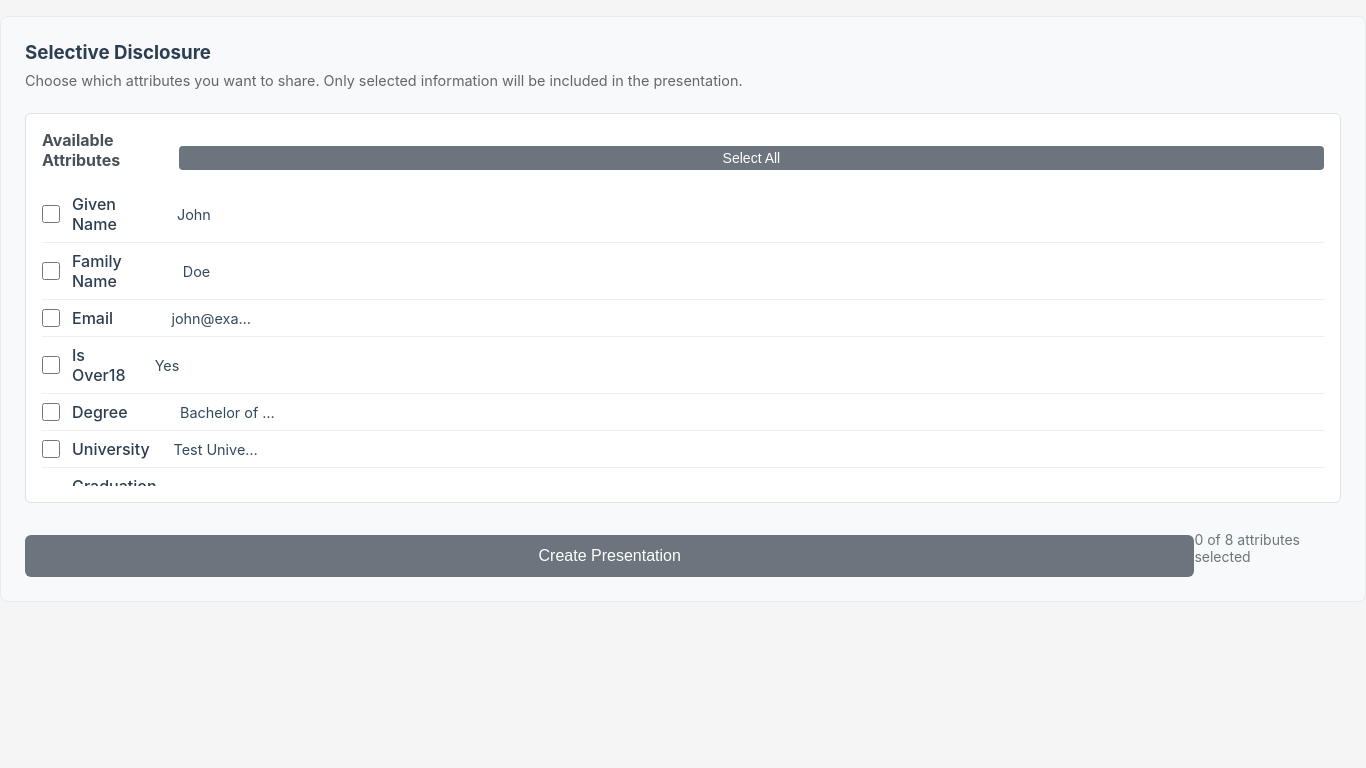
Test case: SelectiveDisclosure › should allow individual attribute selection
The width and height of the screenshot is (1366, 768).
Expected: the checkbox labelled "Given Name John" is not checked, 42,205 -> 60,223
Expected: the checkbox labelled "Email john@example.com" is not checked, 42,309 -> 60,327
// Select first attribute (Given Name)
Click the checkbox labelled "Family Name Doe": point(51, 271) 42,262 -> 60,280
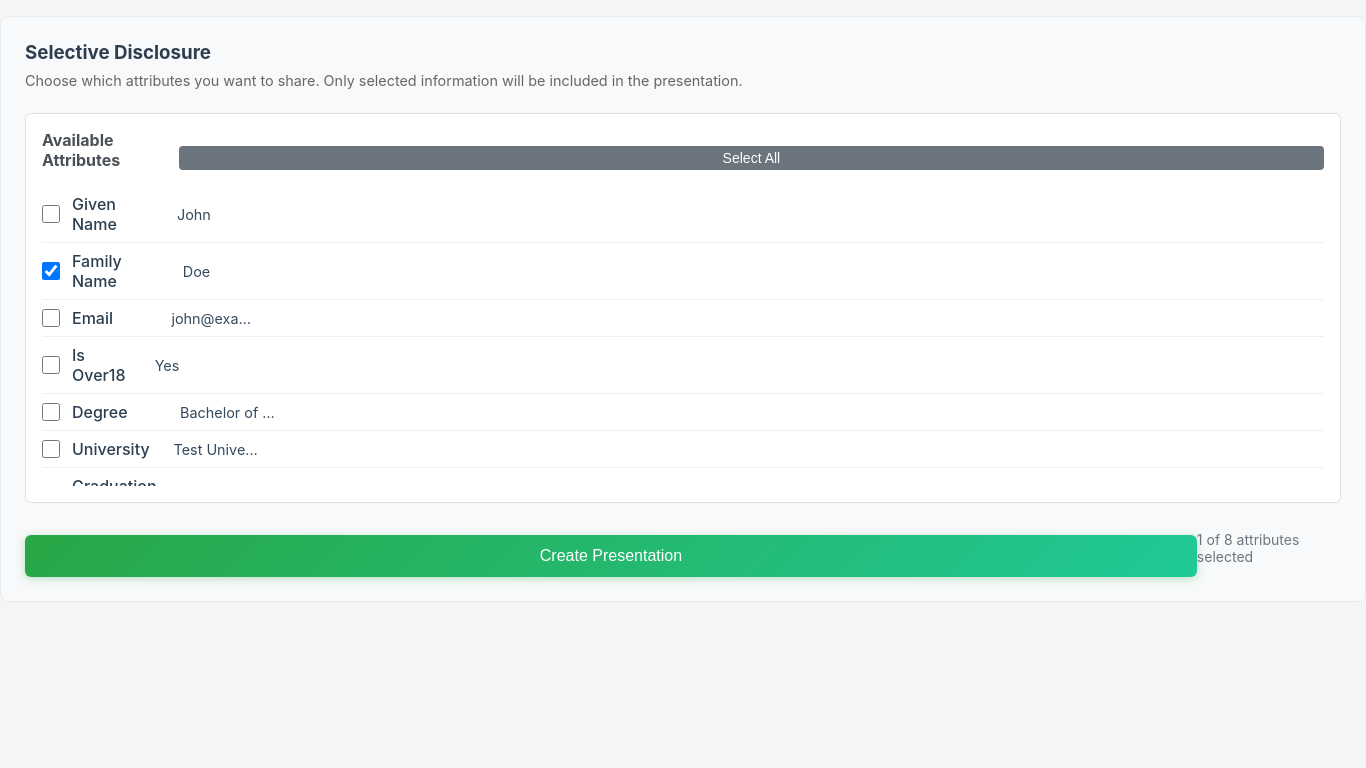
Now the checkbox labelled "Family Name Doe" is checked, box 42,262 -> 60,280
Now the text "1 of 8 attributes selected" is shown, box 1197,531 -> 1299,565
